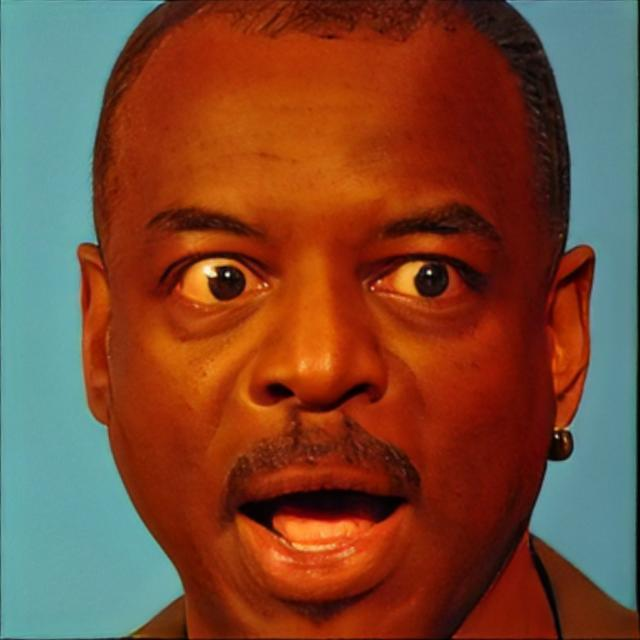fear: (93, 1, 569, 640)
